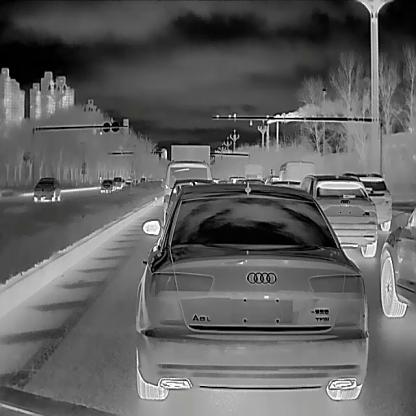car: (134, 183, 368, 400), (297, 174, 377, 257), (379, 206, 415, 318), (162, 160, 212, 222), (340, 170, 390, 230), (279, 159, 314, 186), (33, 176, 60, 201), (111, 176, 124, 190), (99, 180, 112, 192)
truck: (240, 163, 260, 190)
